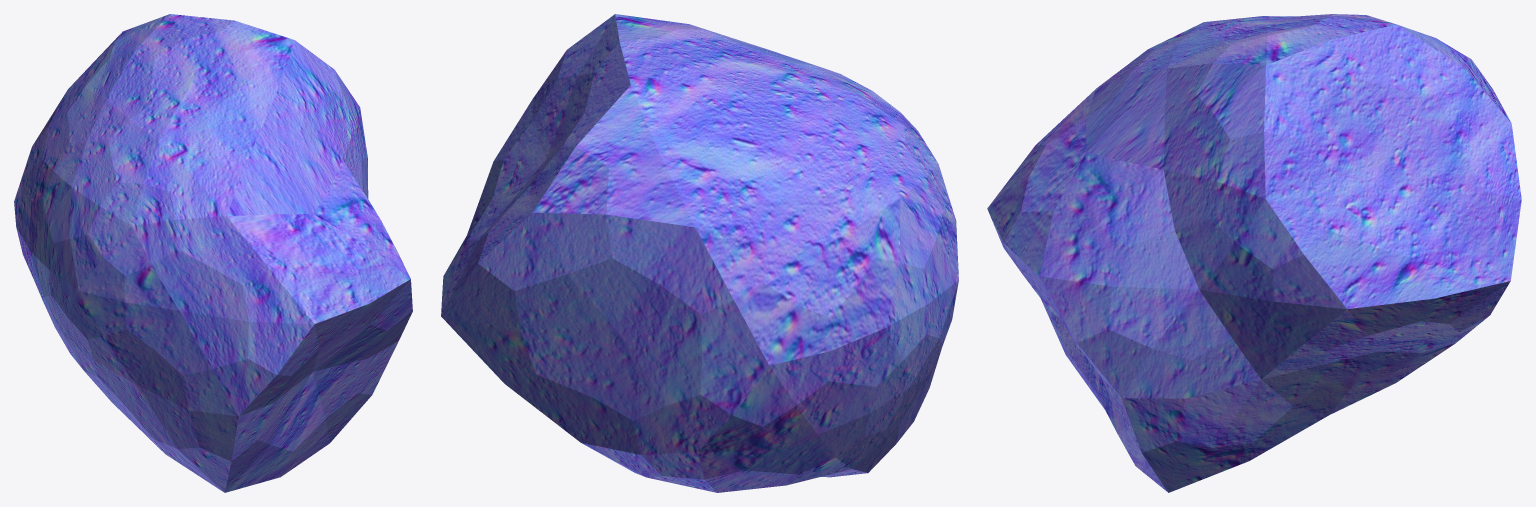
The model's file is smallasteroid6_LOD3.fbx.
3 views of the same model, side by side, from view 1: azimuth 30°, elevation 25°; view 2: azimuth 150°, elevation 25°; view 3: azimuth 270°, elevation 25° (orthographic). The views are drawn at different scales.
Parts seen in each view (by area): view 1: Icosphere; view 2: Icosphere; view 3: Icosphere.
Part boxes in pixels (x1,y1,x2,y2): Icosphere: (14, 14, 412, 492); Icosphere: (441, 14, 958, 492); Icosphere: (987, 14, 1521, 492).
Size of the model in its own units: 217 by 244 by 263.
